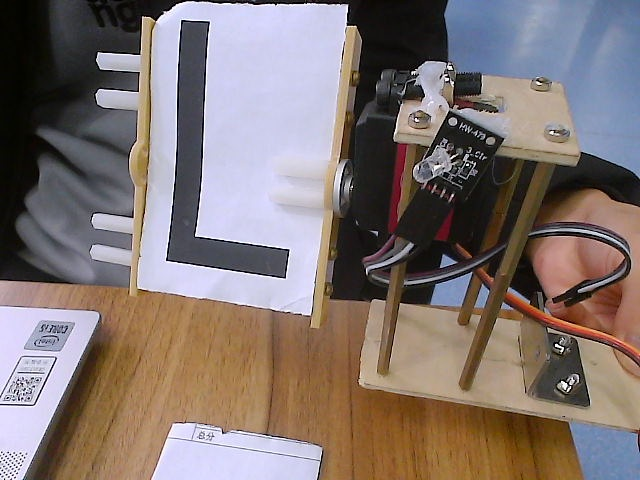L: (76, 1, 421, 357)
